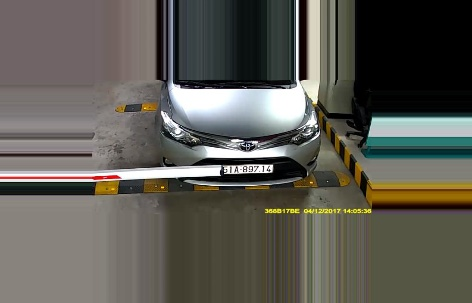plate: (215, 162, 272, 176)
